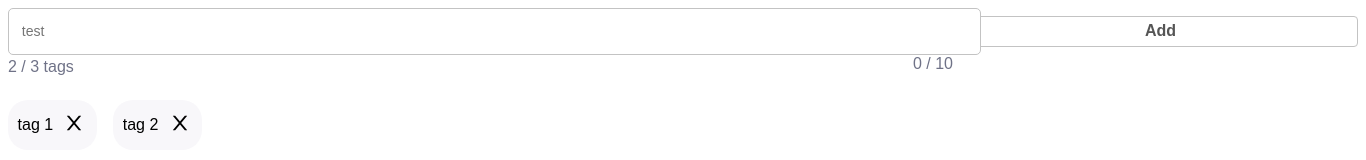
when the user uses the component › should remove one tag
Click the icon next to "tag 1". click: (74, 123)
box: [64,113,84,133]
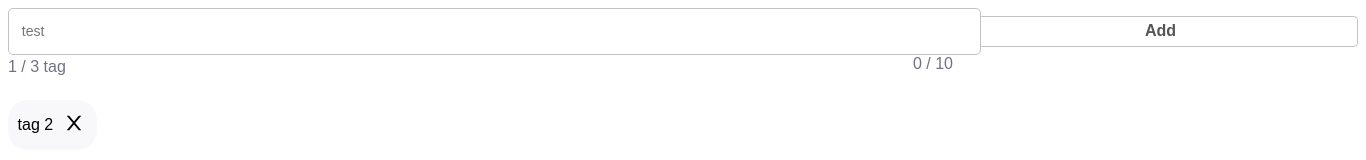
Expected: the text "tag 1" is gone
